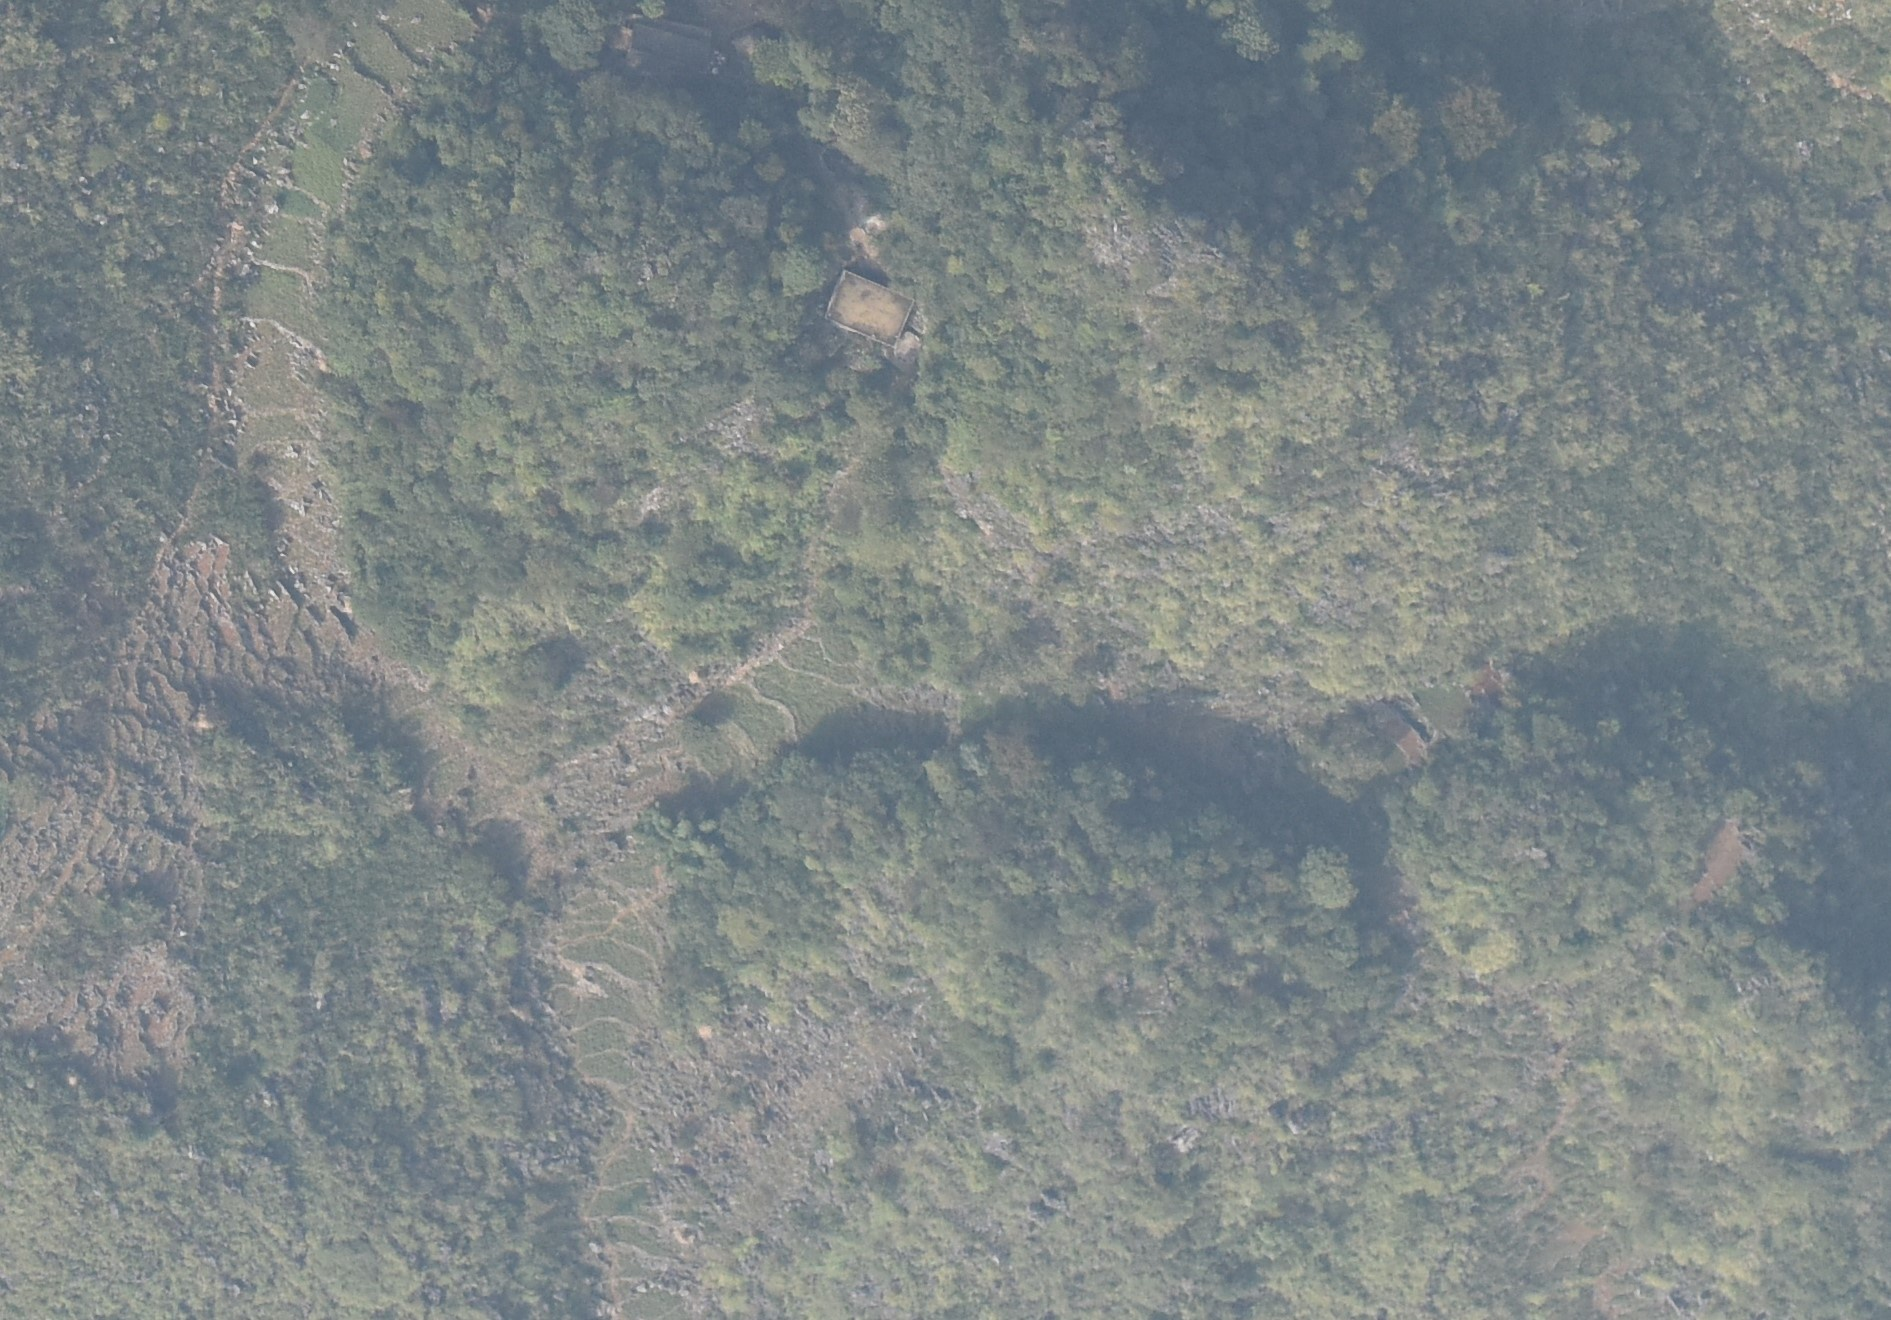building: (823, 269, 915, 343)
